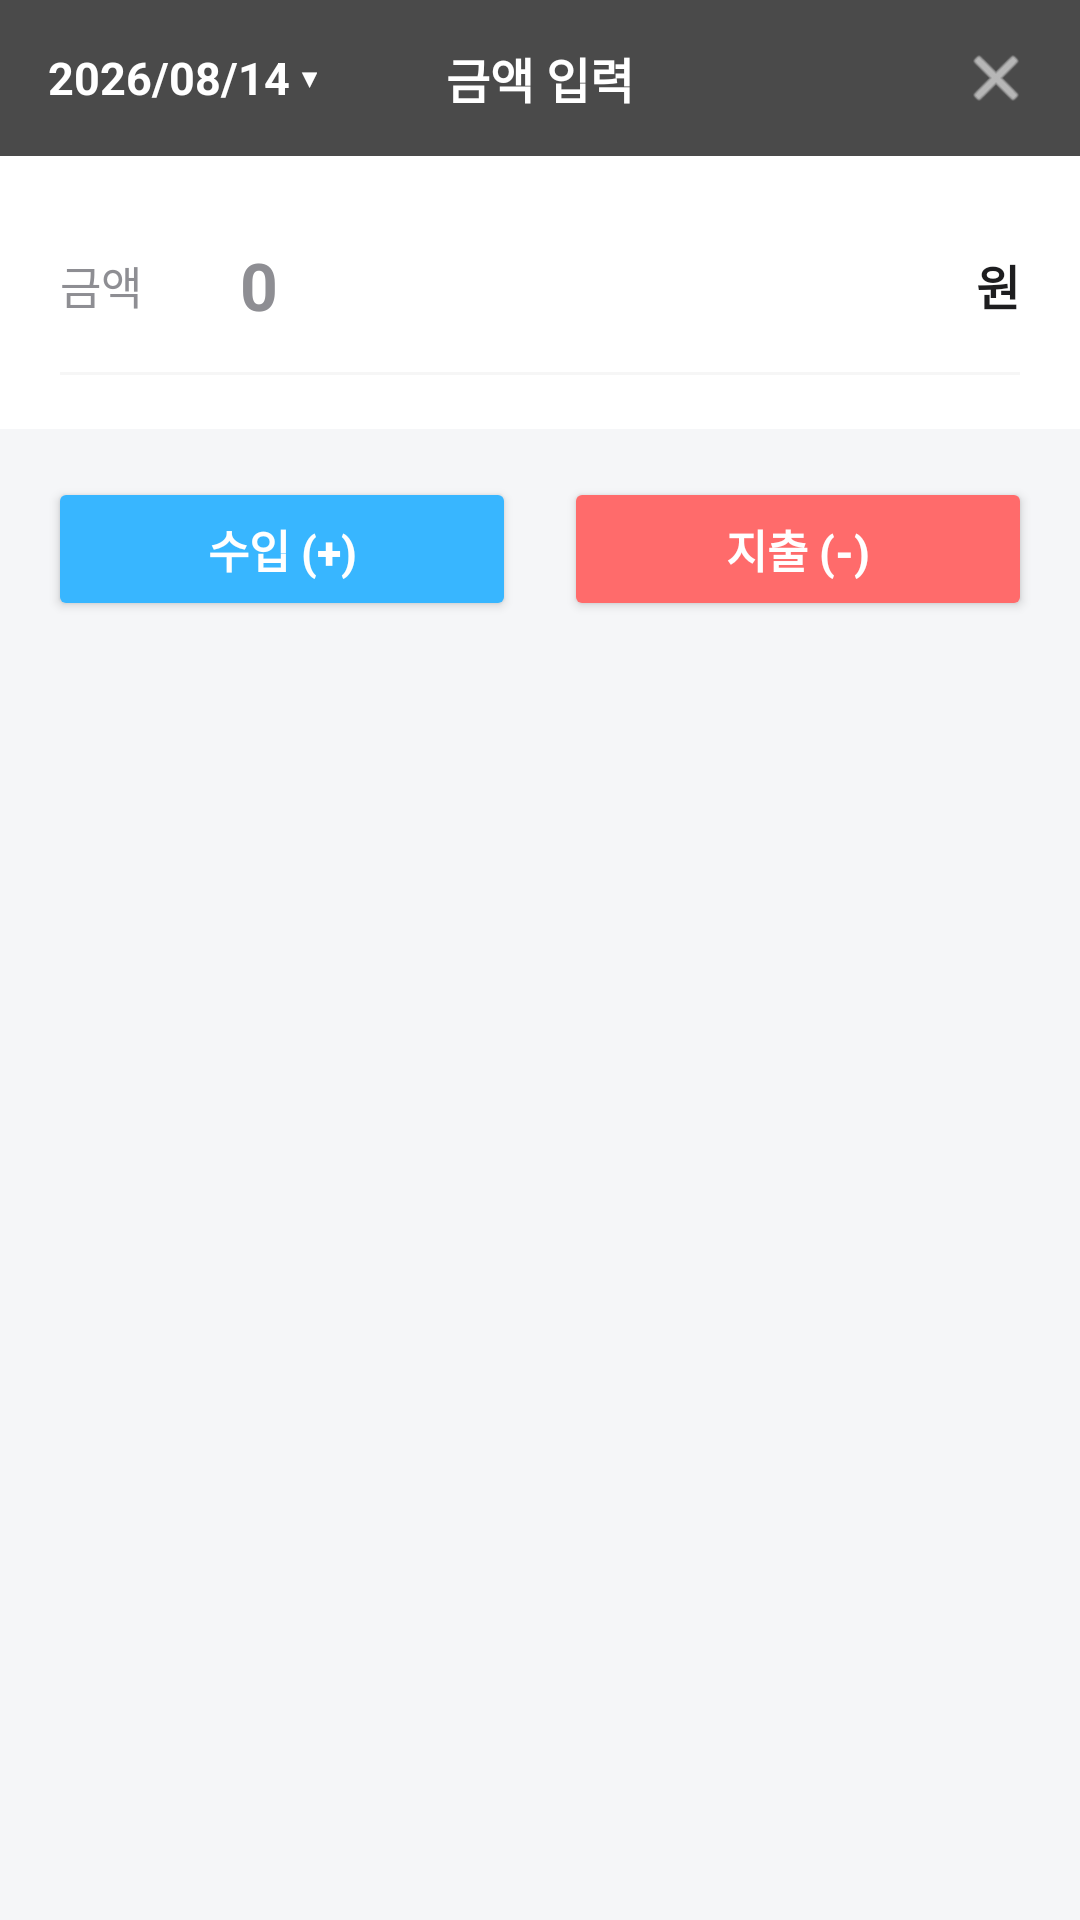

Screen size 1080x1920. Icon name, then its center in pixels as (x=x, y=y):
close clear cancel: (x=996, y=78)
